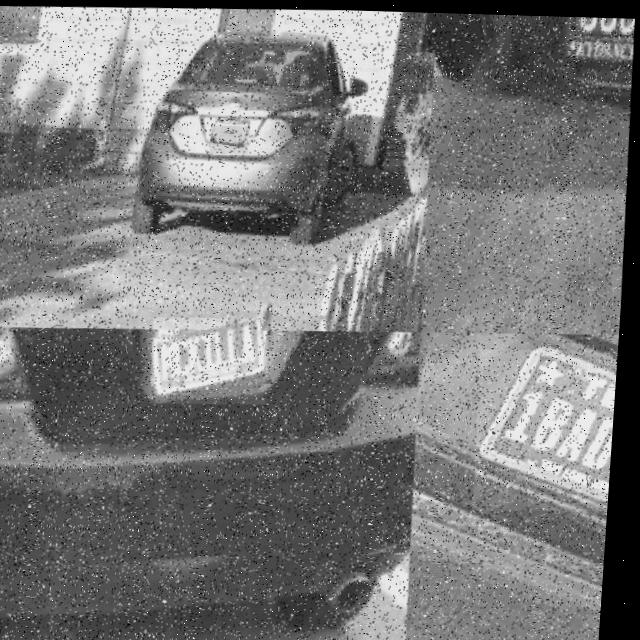LicensePlate: (481, 346, 620, 507), (158, 317, 272, 402), (212, 125, 250, 152)
